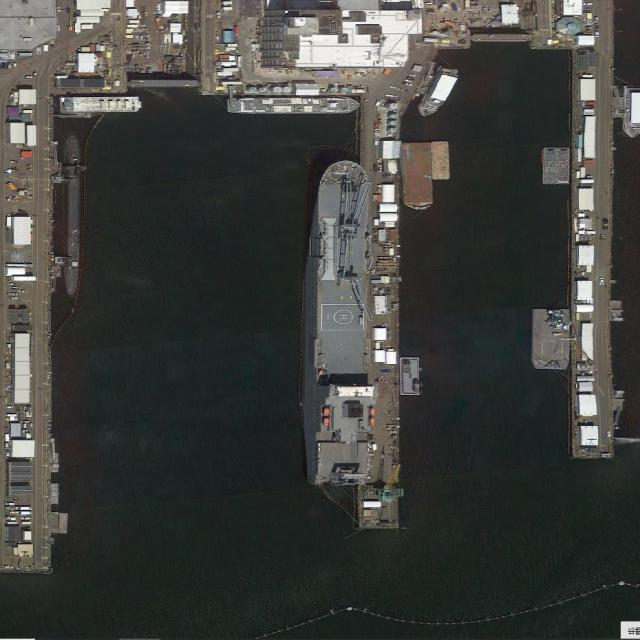Dock: (360, 97, 399, 529), (573, 50, 610, 461)
Other Ship: (416, 63, 462, 122), (227, 98, 359, 114), (402, 143, 433, 210)
RoRo: (301, 159, 373, 487)
Submarine: (61, 134, 82, 301)
